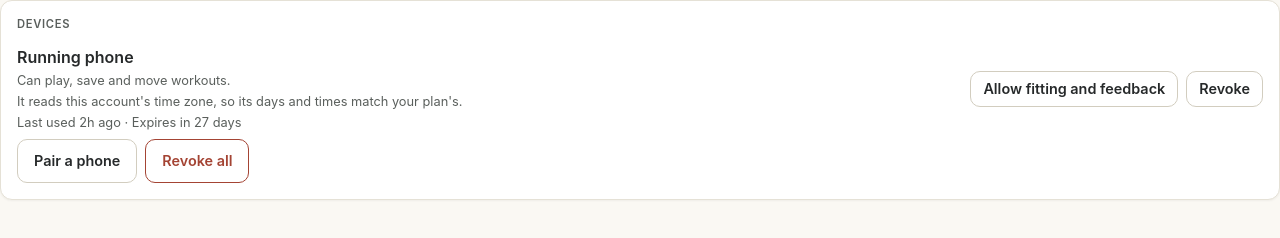
Test: Settings → Devices › an active v2 phone has one button for the next version; it says what that adds, once, then grants it
Click the button "Allow fitting and feedback". click: (1074, 89)
box: [970,71,1178,107]
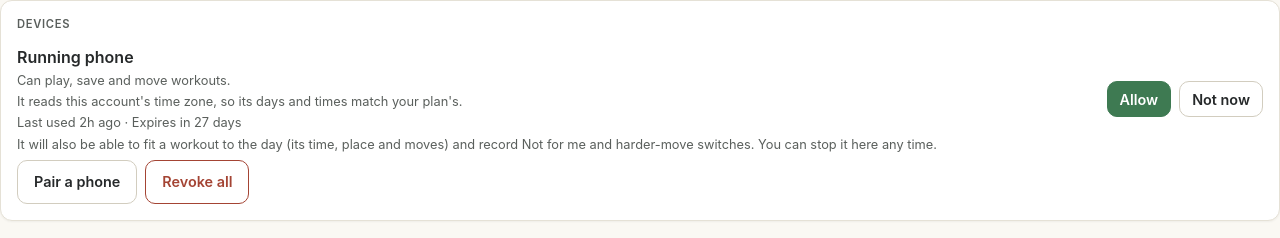
Expected: the element with class "setting-row" shows "It will also be able to fit a workout to the day (its time, place and moves) and record Not for me and harder-move switches. You can stop it here any time.", [17,137,937,152]
Click the button "Allow". click: (1139, 99)
box: [1106,81,1171,117]
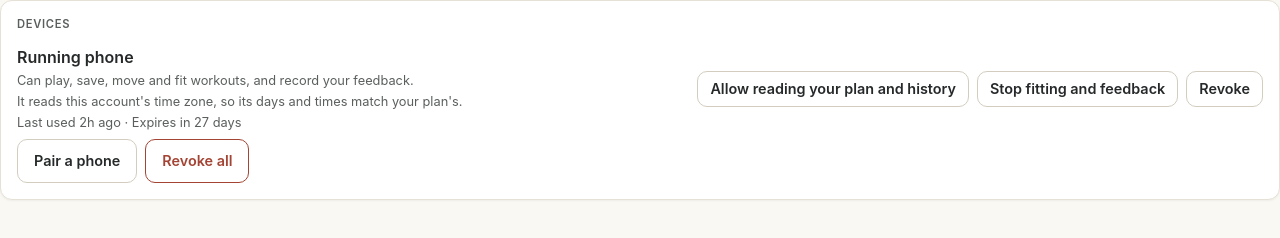
Expected: the element with class "setting-row" shows "Can play, save, move and fit workouts, and record your feedback.", [17,39,1263,139]
Expected: the text with class "setting-row" no longer shows "It will also"
